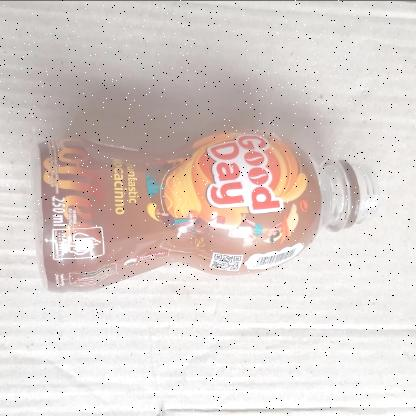Plastic Bottle: (26, 126, 380, 294)
